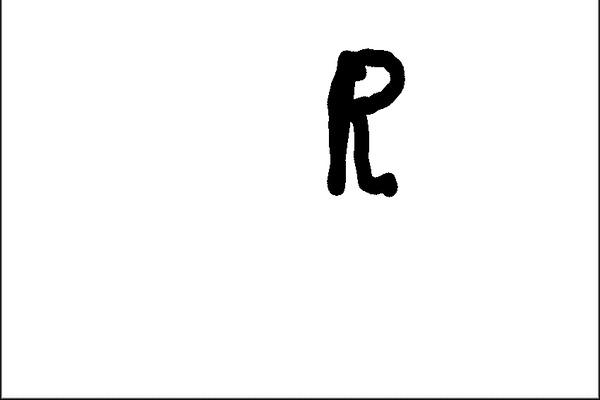R: (317, 37, 423, 203)
